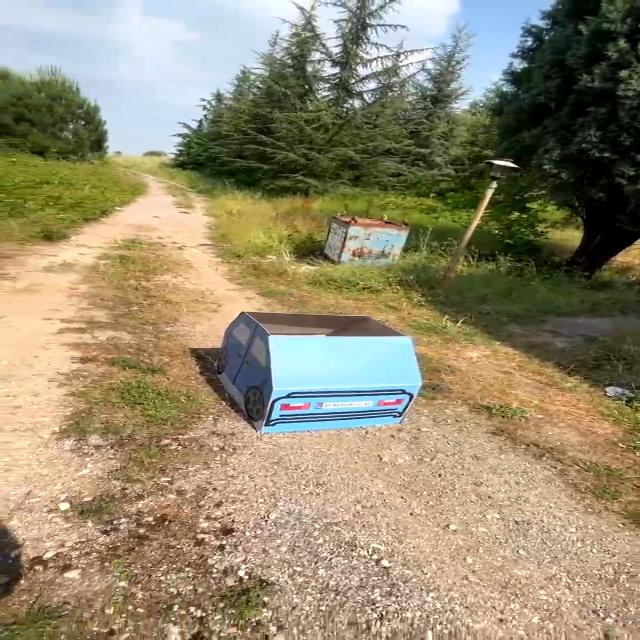blue_car: (181, 304, 437, 437)
